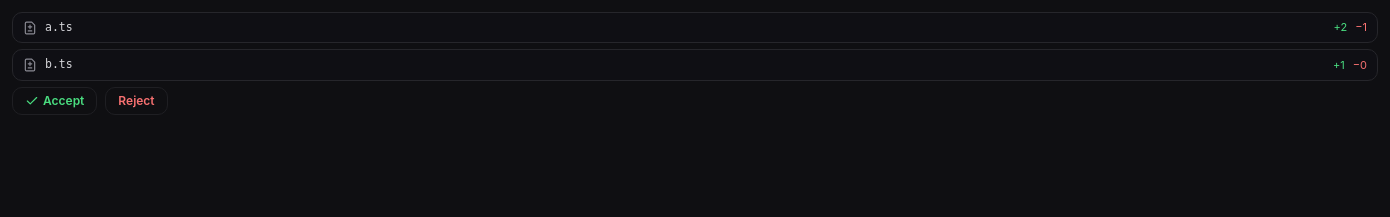
Test: diffs (Property 27) › shows path + counts, labels changed lines by text, lists files separately, offers controls
Expected: the button "Accept" is shown, [12,86,97,114]
Expected: the button "Reject" is shown, [105,86,168,114]
Note: Expand the first file and check text labels accompany colour.
Click the button "a.ts +2 −1" at coordinates (30, 28), box [13,13,1377,42]
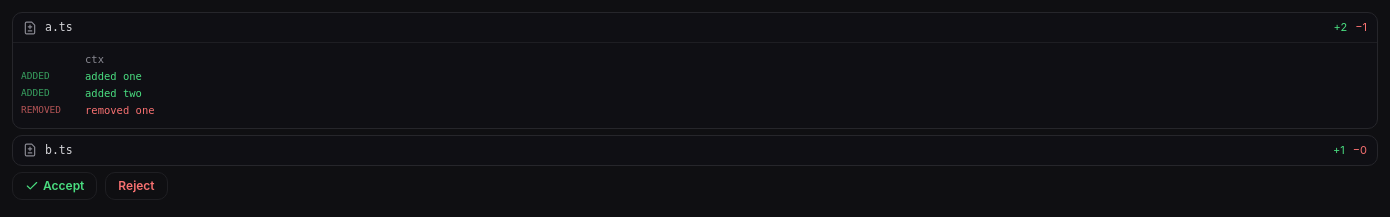
Expected: the element that starts with "a.ts" shows "added", [21,70,50,81]
Expected: the element that starts with "a.ts" shows "removed", [21,104,61,115]
